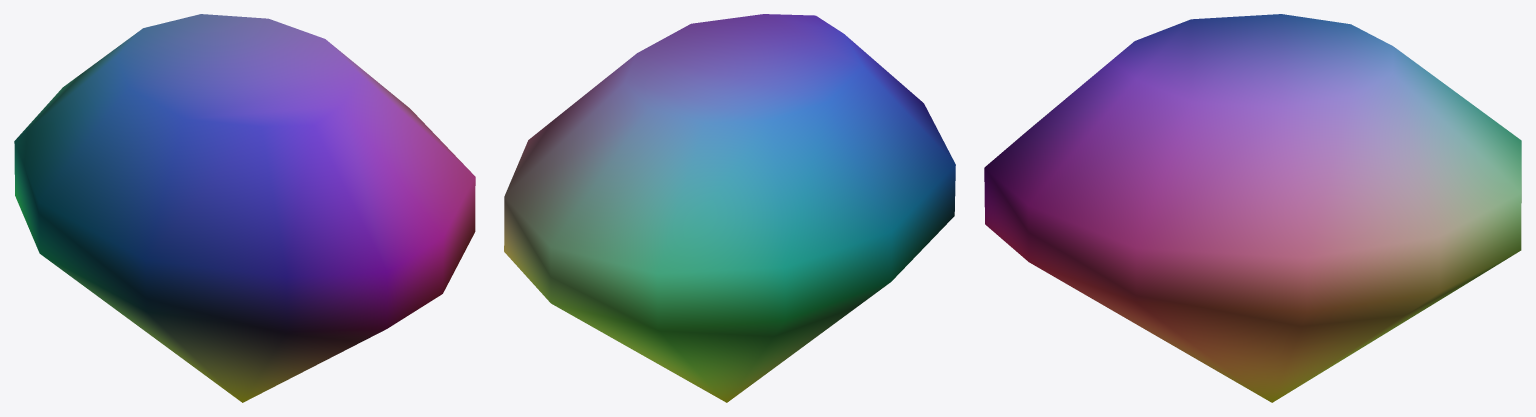
Rendered from SM_Pickup_Gem_Sapphire_2.fbx.
3 views of the same model, side by side, from view 1: azimuth 30°, elevation 25°; view 2: azimuth 150°, elevation 25°; view 3: azimuth 270°, elevation 25° (orthographic). The views are drawn at different scales.
Visible parts, largest first — view 1: SM_Pickup_Gem_Sapphire_2; view 2: SM_Pickup_Gem_Sapphire_2; view 3: SM_Pickup_Gem_Sapphire_2.
Part boxes in pixels (bbox=[...]): SM_Pickup_Gem_Sapphire_2: bbox=[14, 14, 475, 402]; SM_Pickup_Gem_Sapphire_2: bbox=[504, 14, 955, 402]; SM_Pickup_Gem_Sapphire_2: bbox=[984, 14, 1521, 402].
Bounding box in the file's own units: 0.1061 × 0.0928 × 0.1336.
